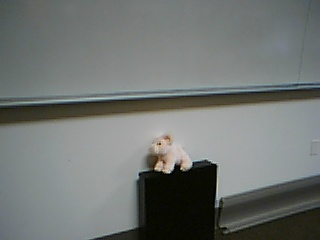piggy: (148, 131, 194, 174)
